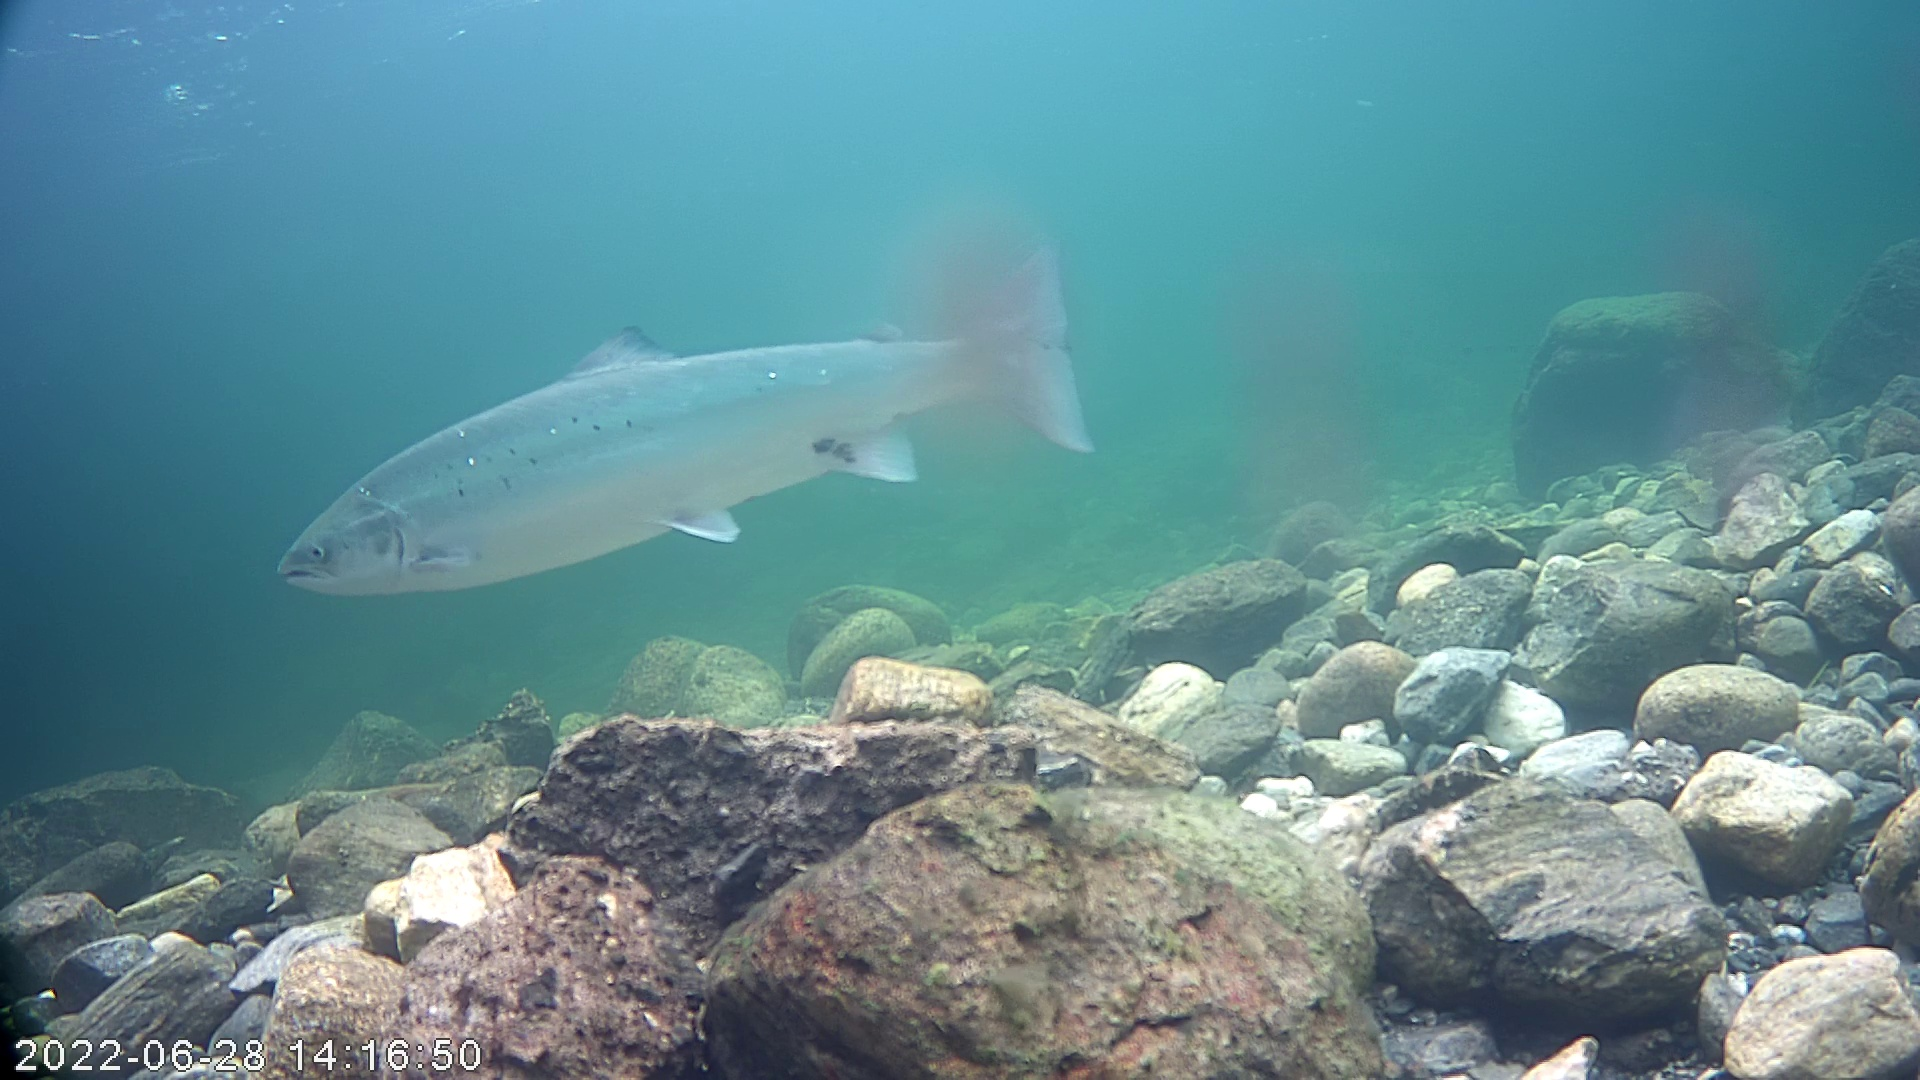salmon: (268, 204, 1112, 626)
